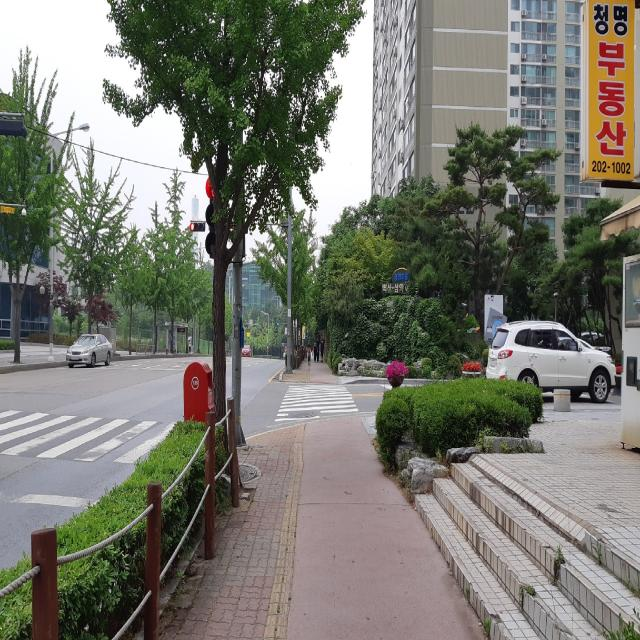횡단보도: (0, 408, 177, 465), (274, 384, 359, 422)
